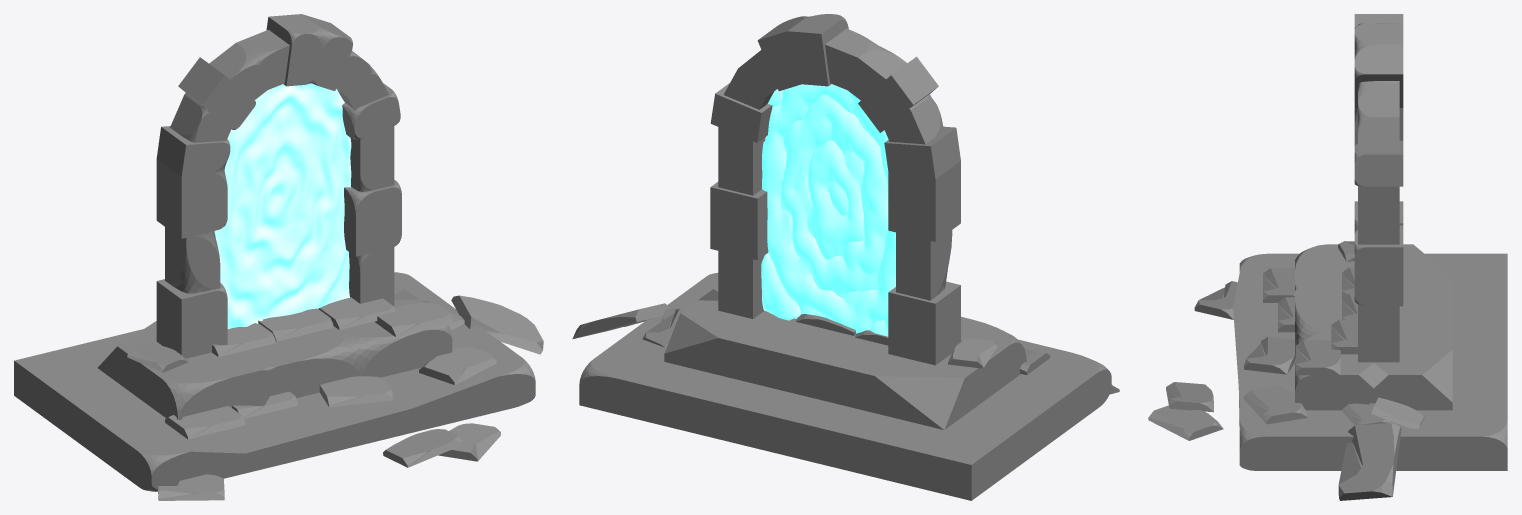
File: 传送门.fbx
3 renders of one model, left to right at view 1: azimuth 30°, elevation 25°; view 2: azimuth 150°, elevation 25°; view 3: azimuth 270°, elevation 25°, orthographic. The views are drawn at different scales.
Visible parts, largest first — view 1: Fläche.004, Fläche.003, Fläche.001, Fläche.002, Fläche, Fläche.010, Fläche.011, Fläche.018, Fläche.012, Fläche.005, Fläche.006, Fläche.009 (+6 smaller); view 2: Fläche.004, Fläche.003, Fläche.001, Fläche.002, Fläche, Fläche.010, Fläche.020, Fläche.016, Fläche.008; view 3: Fläche.004, Fläche.002, Fläche.001, Fläche, Fläche.010, Fläche.011, Fläche.017, Fläche.005, Fläche.012, Fläche.018, Fläche.006, Fläche.019 (+4 smaller).
Part boxes in pixels (bbox=[...]): Fläche.004: bbox=[14, 272, 535, 491]; Fläche.003: bbox=[214, 83, 351, 329]; Fläche.001: bbox=[156, 14, 401, 358]; Fläche.002: bbox=[97, 281, 452, 419]; Fläche: bbox=[165, 30, 394, 305]; Fläche.010: bbox=[451, 295, 543, 354]; Fläche.011: bbox=[419, 347, 496, 384]; Fläche.018: bbox=[383, 429, 462, 467]; Fläche.012: bbox=[319, 376, 392, 407]; Fläche.005: bbox=[375, 302, 452, 337]; Fläche.006: bbox=[165, 406, 245, 439]; Fläche.009: bbox=[318, 297, 395, 329]; Fläche.004: bbox=[579, 273, 1111, 500]; Fläche.003: bbox=[761, 84, 895, 336]; Fläche.001: bbox=[710, 14, 960, 365]; Fläche.002: bbox=[664, 285, 1026, 429]; Fläche: bbox=[718, 28, 952, 318]; Fläche.010: bbox=[572, 303, 671, 339]; Fläche.020: bbox=[948, 338, 997, 368]; Fläche.016: bbox=[642, 308, 683, 347]; Fläche.008: bbox=[796, 314, 855, 335]; Fläche.004: bbox=[1233, 253, 1507, 470]; Fläche.002: bbox=[1295, 244, 1452, 410]; Fläche.001: bbox=[1354, 14, 1403, 306]; Fläche: bbox=[1358, 23, 1399, 362]; Fläche.010: bbox=[1338, 423, 1401, 500]; Fläche.011: bbox=[1243, 385, 1308, 424]; Fläche.017: bbox=[1148, 405, 1223, 440]; Fläche.005: bbox=[1295, 340, 1340, 375]; Fläche.012: bbox=[1244, 336, 1294, 374]; Fläche.018: bbox=[1166, 382, 1213, 412]; Fläche.006: bbox=[1263, 268, 1294, 302]; Fläche.019: bbox=[1194, 281, 1237, 319].
Size of what is drawn, in the model's own units: 646 by 510 by 457.
